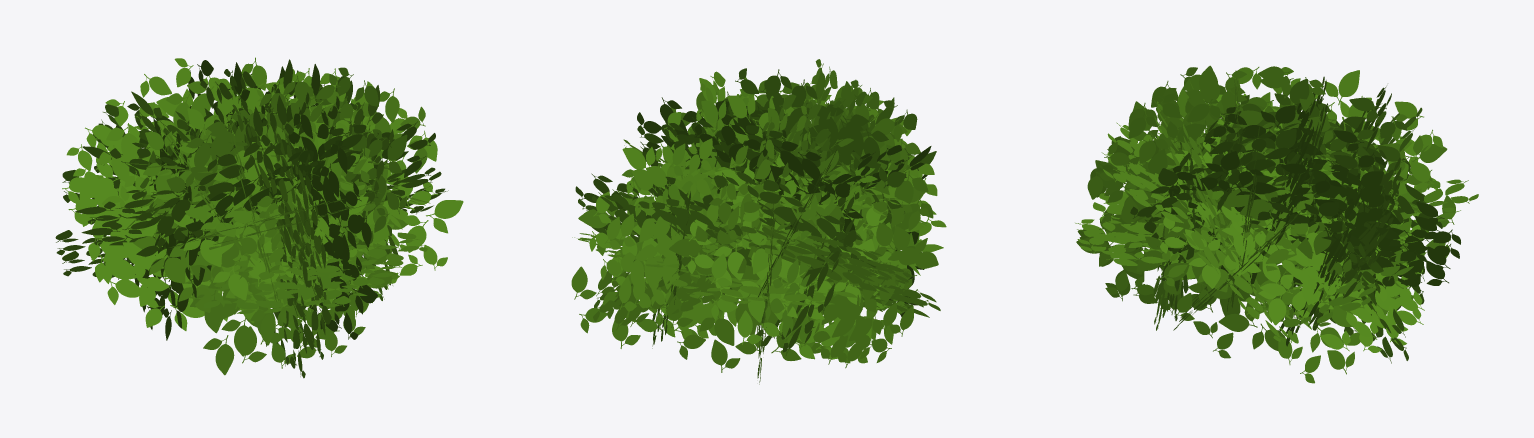
The model's file is bush.fbx.
3 renders of one model, left to right at view 1: azimuth 30°, elevation 25°; view 2: azimuth 150°, elevation 25°; view 3: azimuth 270°, elevation 25°, orthographic.
Parts seen in each view (by area): view 1: 平面.023; view 2: 平面.023; view 3: 平面.023.
Part boxes in pixels (<box>): 平面.023: <box>55,57,463,378</box>; 平面.023: <box>571,59,946,384</box>; 平面.023: <box>1075,65,1478,383</box>.
Size of the model in its own units: 5.35 by 5.3 by 4.11.
